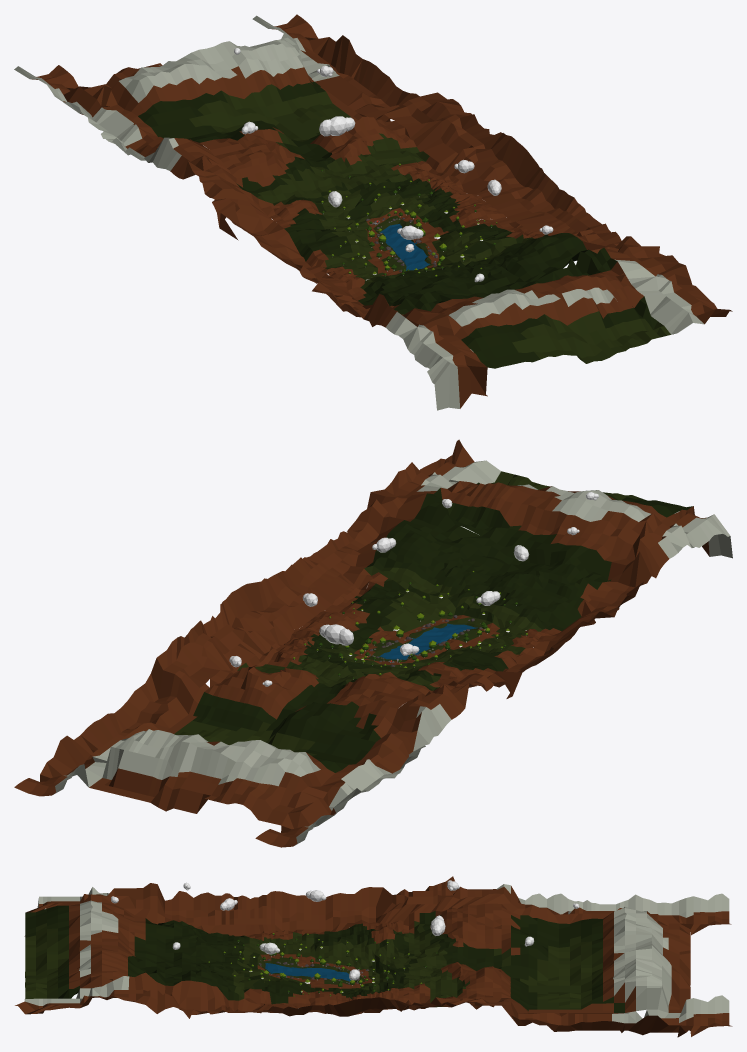
The picture shows the model from 3 angles, top to bottom: view 1: azimuth 30°, elevation 25°; view 2: azimuth 150°, elevation 25°; view 3: azimuth 270°, elevation 25°; orthographic projection. The views are drawn at different scales.
Parts seen in each view (by area): view 1: grass005, Surface006; view 2: grass005, Surface006; view 3: grass005, Surface006.
Boxes of the visible parts, bbox=[...] form: grass005: bbox=[14, 14, 732, 410]; Surface006: bbox=[380, 224, 429, 270]; grass005: bbox=[14, 439, 732, 847]; Surface006: bbox=[378, 623, 477, 659]; grass005: bbox=[15, 876, 732, 1037]; Surface006: bbox=[265, 963, 350, 981].
Size of the model in its own units: 15802 by 4930 by 40664.
